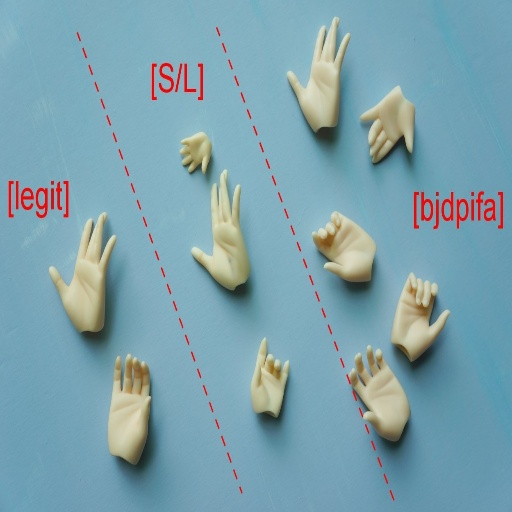hand: (47, 208, 118, 336), (293, 18, 358, 140), (190, 167, 251, 293), (348, 342, 410, 443), (388, 269, 450, 365), (106, 350, 150, 468), (357, 80, 416, 165), (310, 208, 377, 281), (248, 337, 289, 418), (178, 128, 212, 176)
